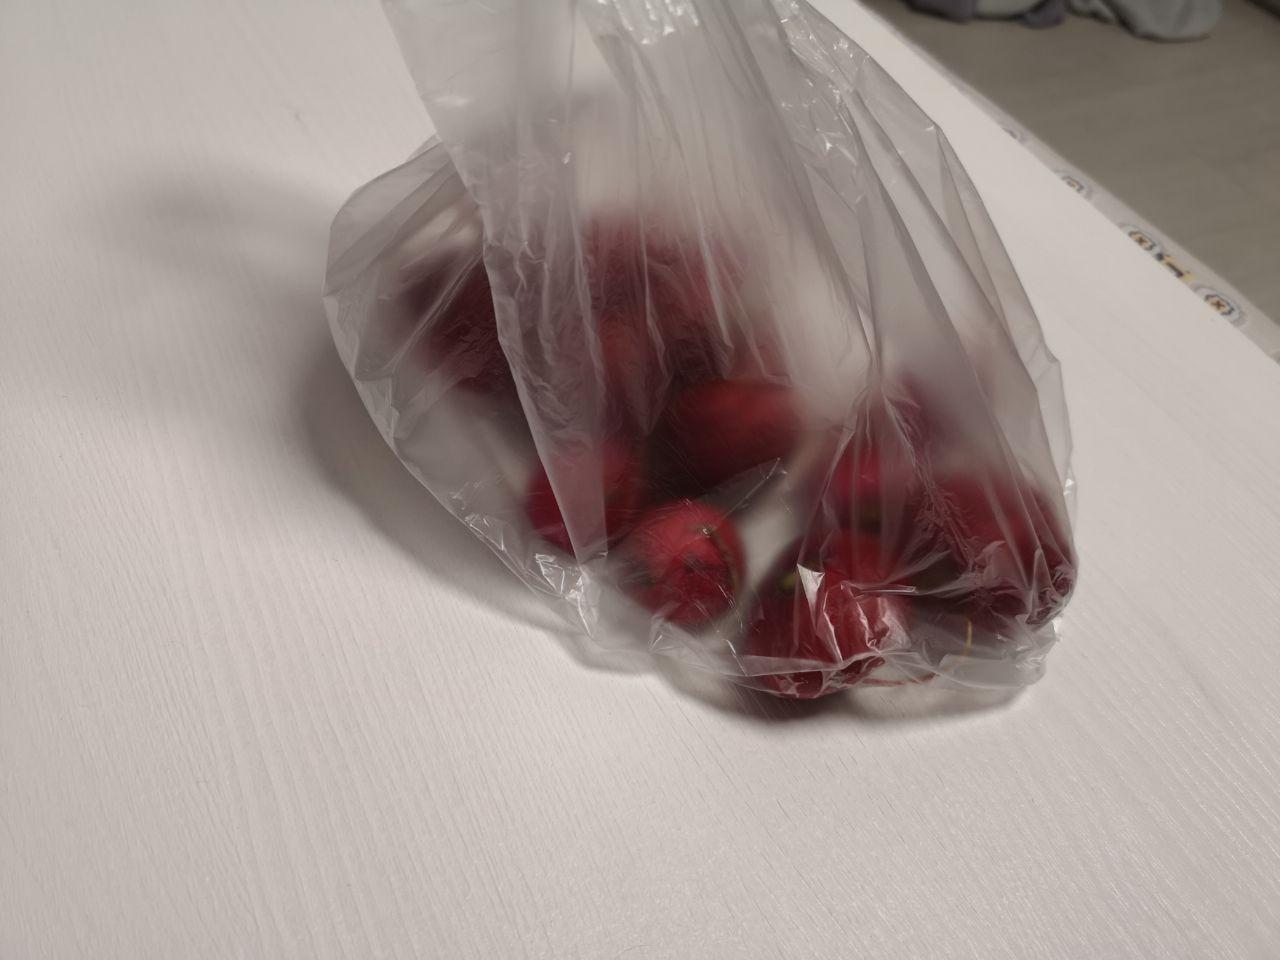redish: (303, 119, 1125, 750)
